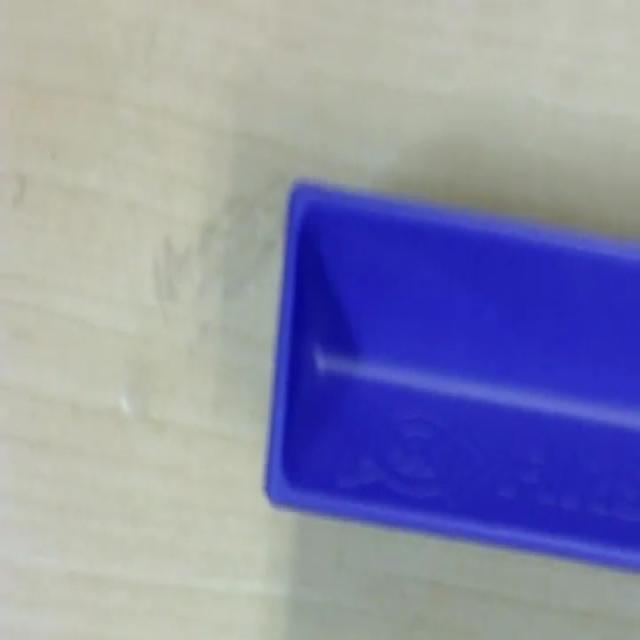blue_block: (262, 174, 638, 570)
